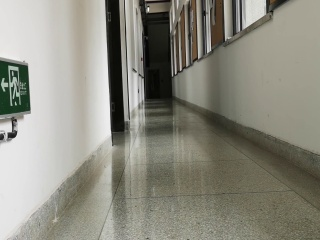room: (102, 3, 127, 132)
